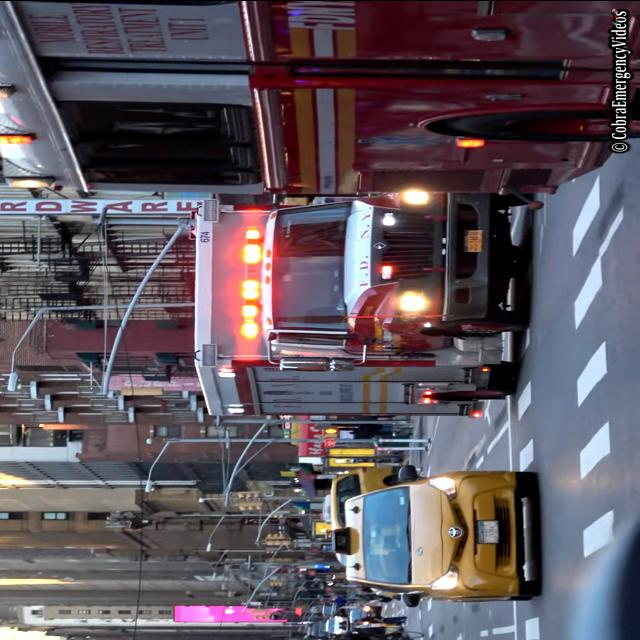emergency-vehicles: (178, 172, 538, 438)
